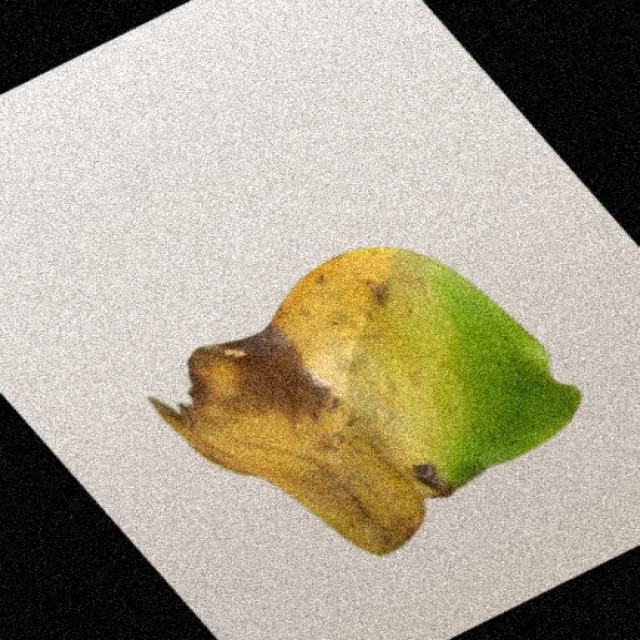daun berpenyakit kuning: (150, 248, 580, 554)
